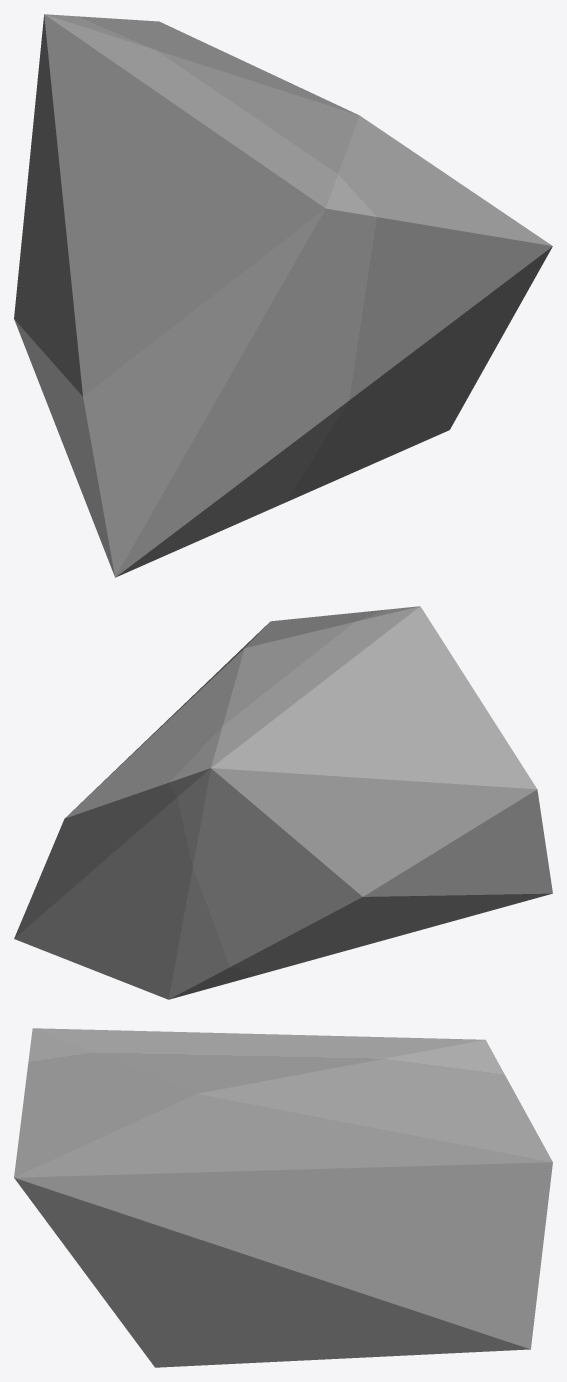
Rendered from 3D_Rock1.fbx.
The picture shows the model from 3 angles, top to bottom: view 1: azimuth 30°, elevation 25°; view 2: azimuth 150°, elevation 25°; view 3: azimuth 270°, elevation 25°; orthographic projection. The views are drawn at different scales.
Visible parts, largest first — view 1: Rock1; view 2: Rock1; view 3: Rock1.
Part boxes in pixels (box(x1,y1,x2,y2)): Rock1: box(14, 14, 552, 577); Rock1: box(14, 606, 552, 999); Rock1: box(14, 1028, 552, 1367).
Bounding box in the file's own units: 16.09 × 12.18 × 21.22.
